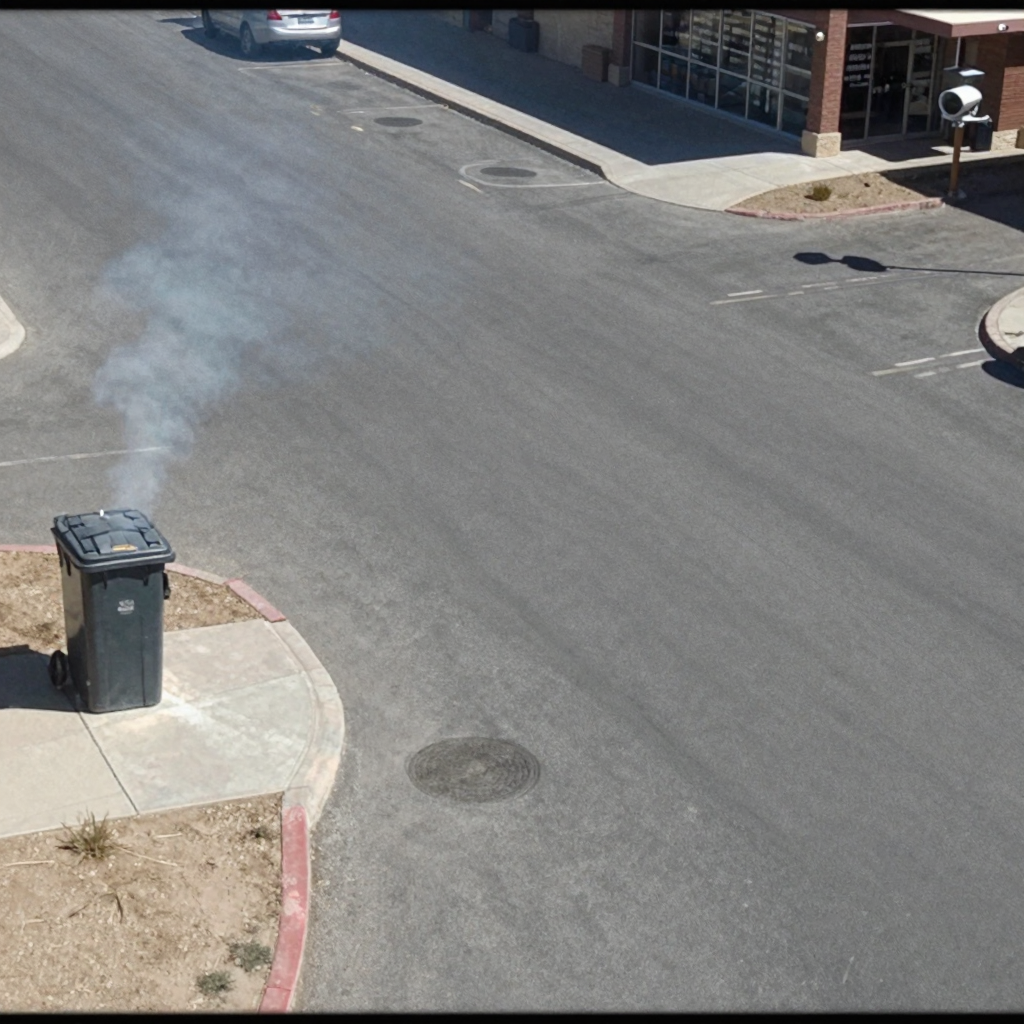Explosion: (112, 212, 384, 517)
